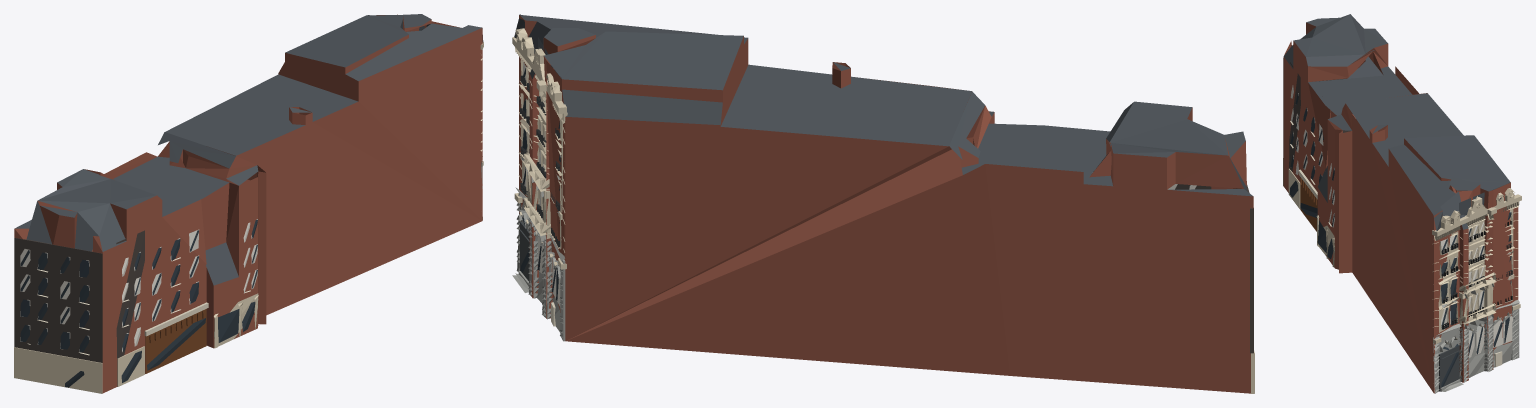
The model's file is passage-central.lod1.glb.
3 renders of one model, left to right at view 1: azimuth 30°, elevation 25°; view 2: azimuth 150°, elevation 25°; view 3: azimuth 270°, elevation 25°, orthographic. The views are drawn at different scales.
Parts seen in each view (by area): view 1: passage-central; view 2: passage-central; view 3: passage-central.
Boxes of the visible parts, x1,y1,x2,y2 form: passage-central: (14, 14, 483, 393); passage-central: (512, 14, 1254, 393); passage-central: (1283, 14, 1521, 393).
Bounding box in the file's own units: 68.61 × 25.82 × 29.94.
